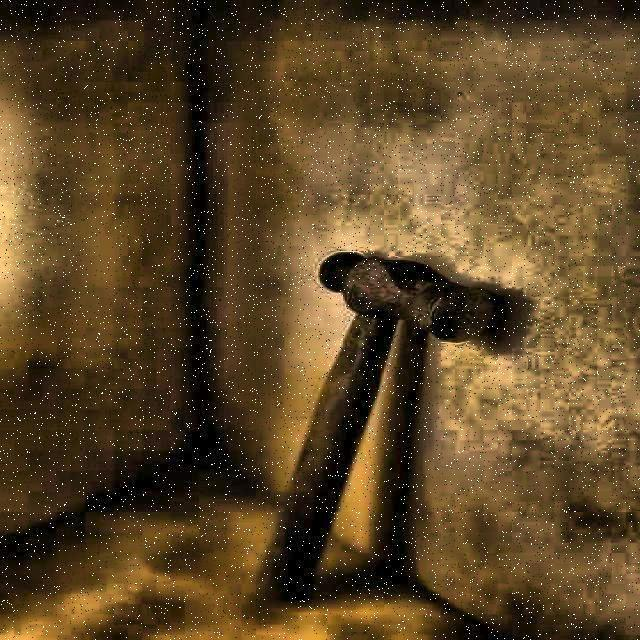hammer: (256, 250, 499, 600)
